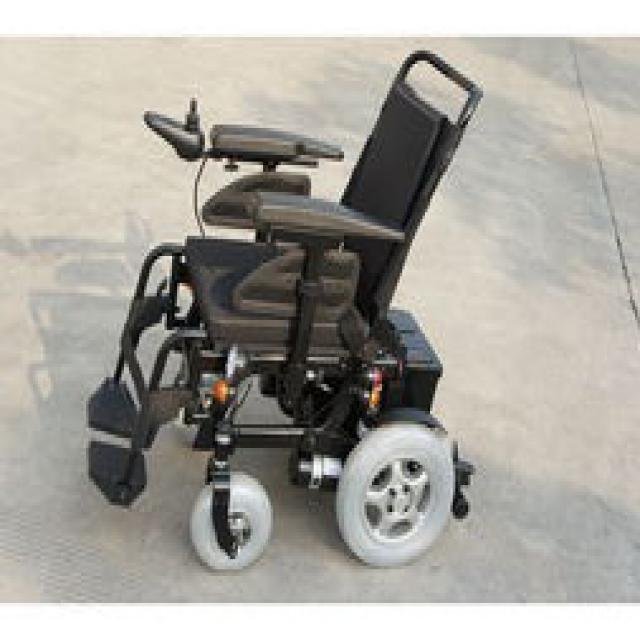wheelchair: (84, 44, 504, 593)
